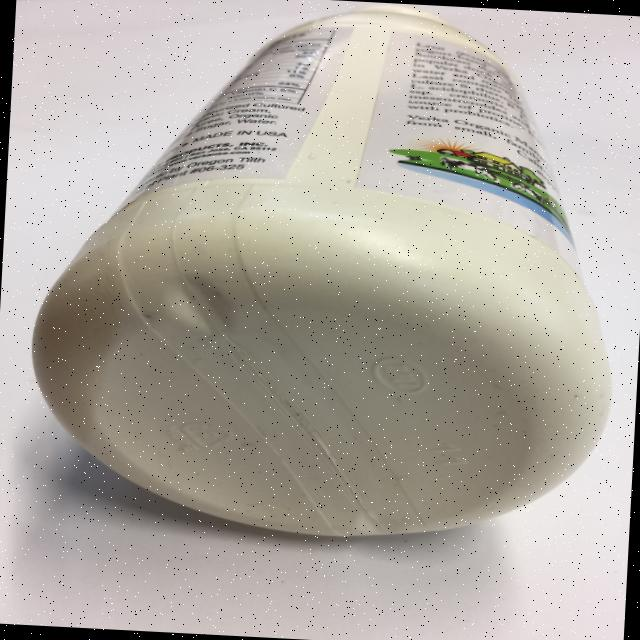plastic: (21, 0, 633, 552)
